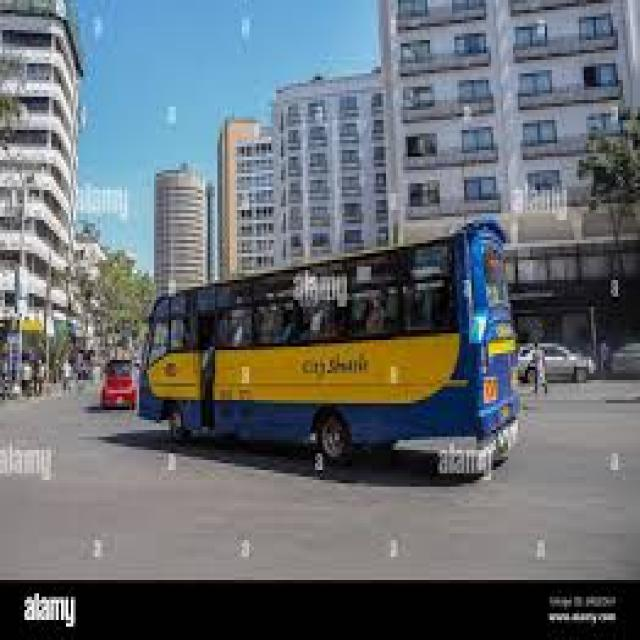bus: (128, 202, 554, 503)
